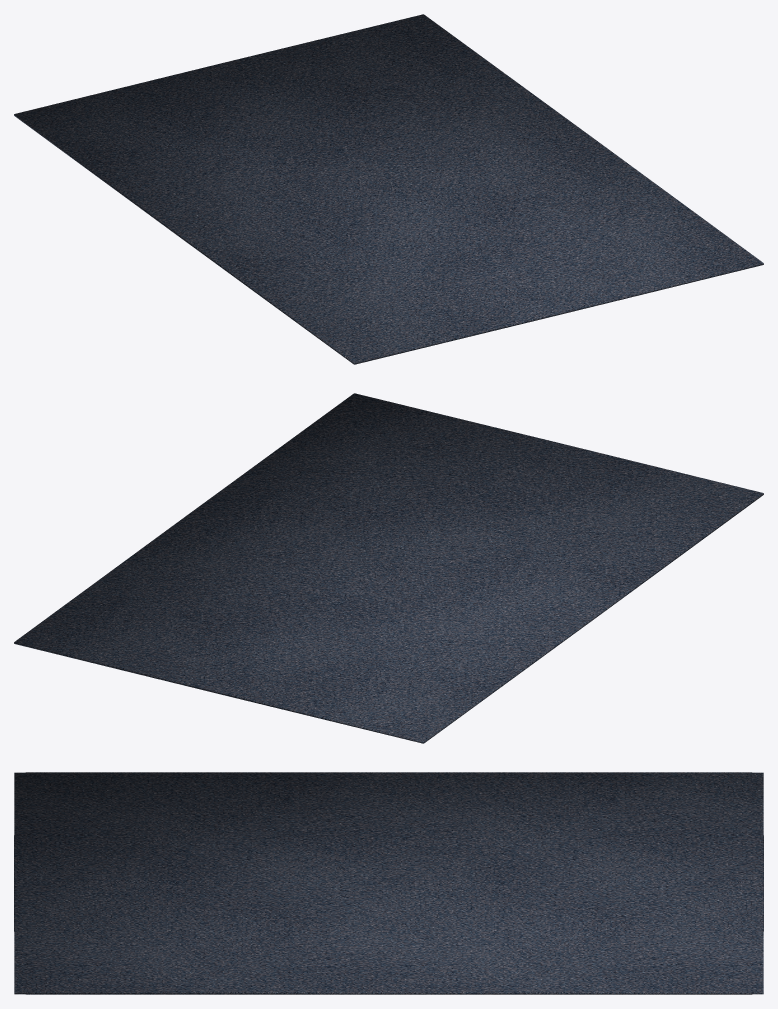
The model's file is rug_160x230_1k.gltf.
The picture shows the model from 3 angles, top to bottom: view 1: azimuth 30°, elevation 25°; view 2: azimuth 150°, elevation 25°; view 3: azimuth 270°, elevation 25°; orthographic projection. The views are drawn at different scales.
Visible parts, largest first — view 1: rug_160x230-node-0; view 2: rug_160x230-node-0; view 3: rug_160x230-node-0.
Boxes of the visible parts, x1,y1,x2,y2 form: rug_160x230-node-0: [14, 14, 763, 364]; rug_160x230-node-0: [14, 393, 763, 743]; rug_160x230-node-0: [14, 772, 763, 994].
Size of the model in its own units: 1.6 by 0.01 by 2.3.
1 material, 1 textured.
